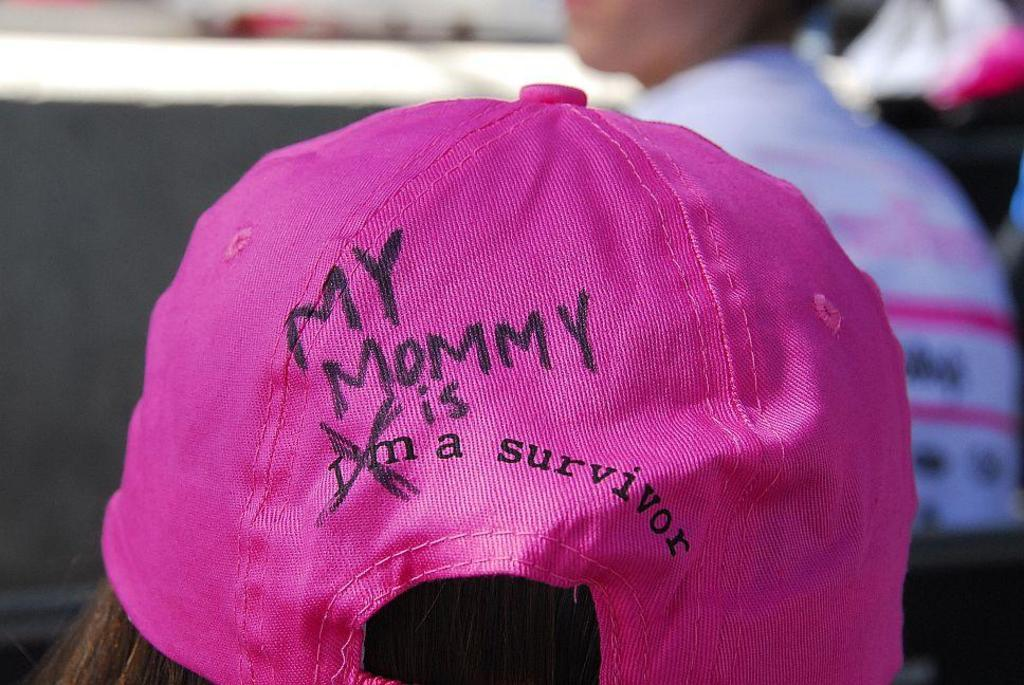Hat: (103, 81, 904, 684)
